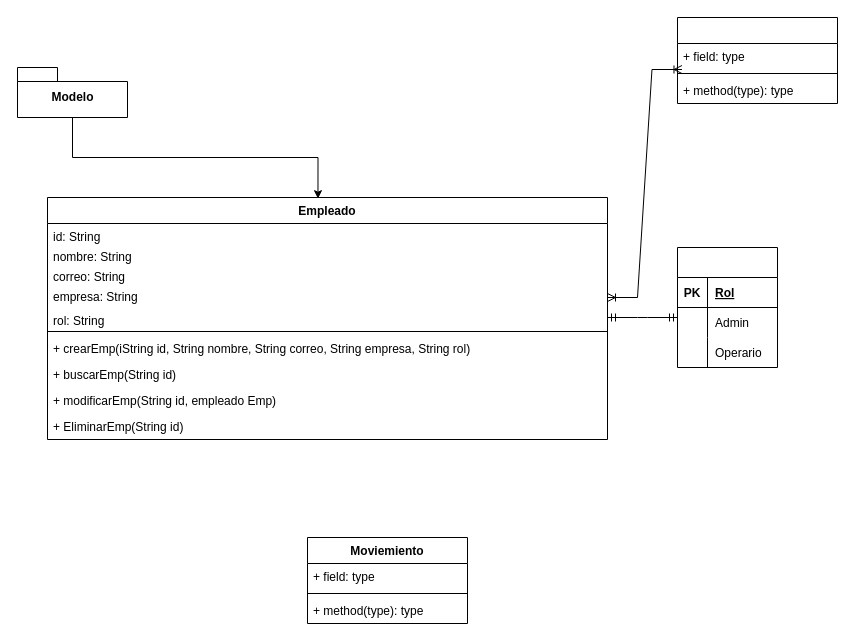
Image size: 855x644. Some labels were removed from this diagram. Each missing label, with the box of its shape:
Empresa: (676, 16, 838, 104)
Roles: (676, 246, 778, 368)
